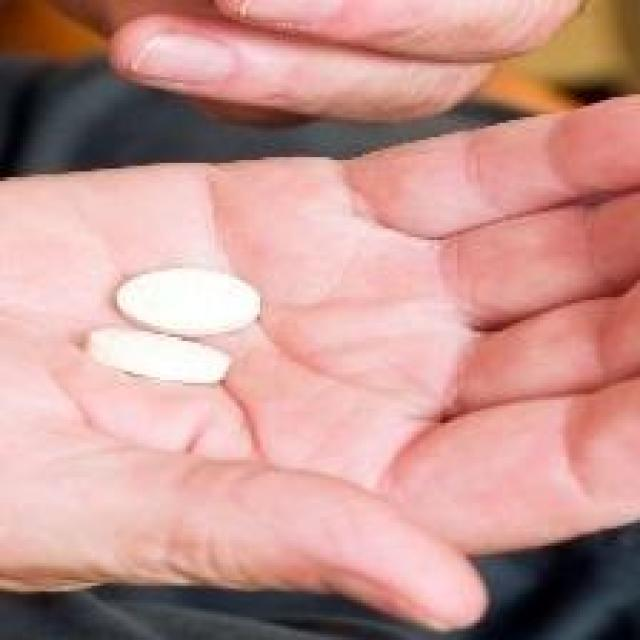Medicine: (17, 161, 288, 415)
